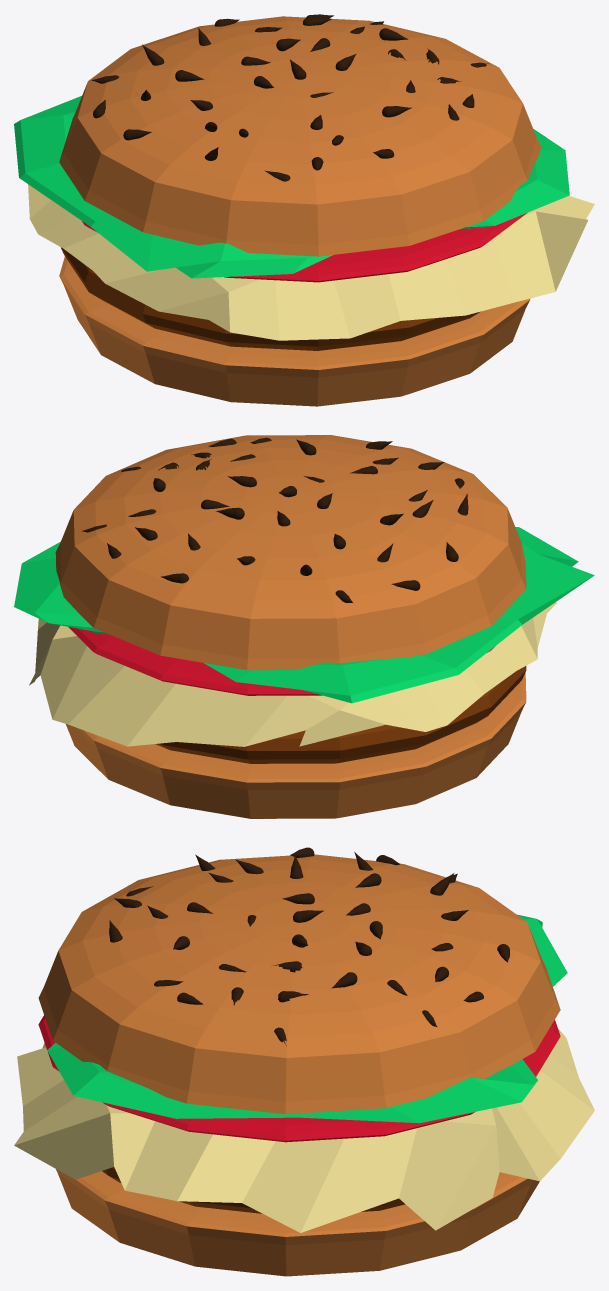
The model's file is Hamburger.fbx.
3 renders of one model, top to bottom at view 1: azimuth 30°, elevation 25°; view 2: azimuth 150°, elevation 25°; view 3: azimuth 270°, elevation 25°, orthographic. The views are drawn at different scales.
Parts seen in each view (by area): view 1: Sphere.005; view 2: Sphere.005; view 3: Sphere.005.
Boxes of the visible parts, x1=… form: Sphere.005: x1=14, y1=14, x2=594, y2=406; Sphere.005: x1=14, y1=435, x2=594, y2=818; Sphere.005: x1=14, y1=847, x2=594, y2=1276.
Size of the model in its own units: 232 by 128 by 224.
